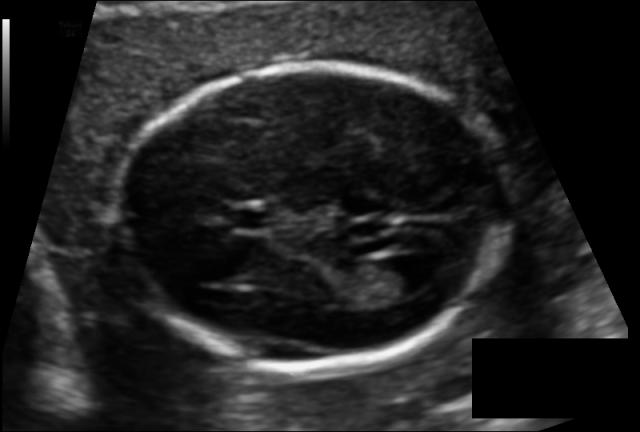CHOROID_PLEXUS: (307, 250, 416, 328)
CSP: (170, 180, 270, 240)
MIDLINE_FALX: (103, 171, 527, 262)
